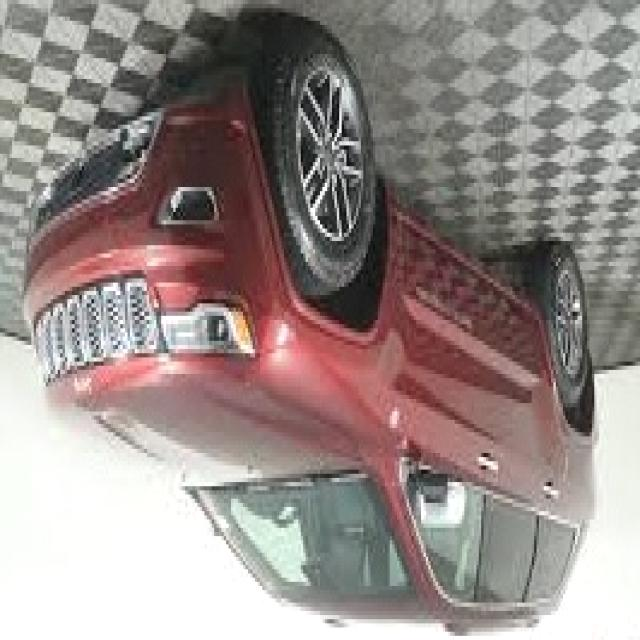maroon: (0, 71, 607, 632)
